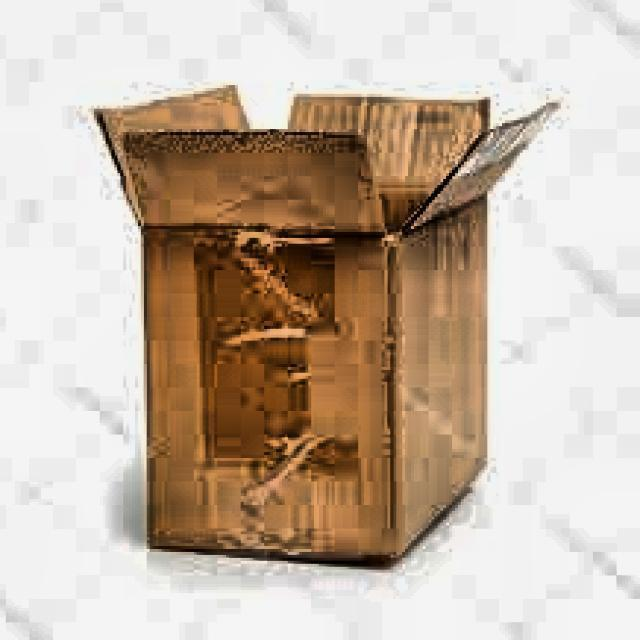cardboard: (94, 82, 561, 567)
